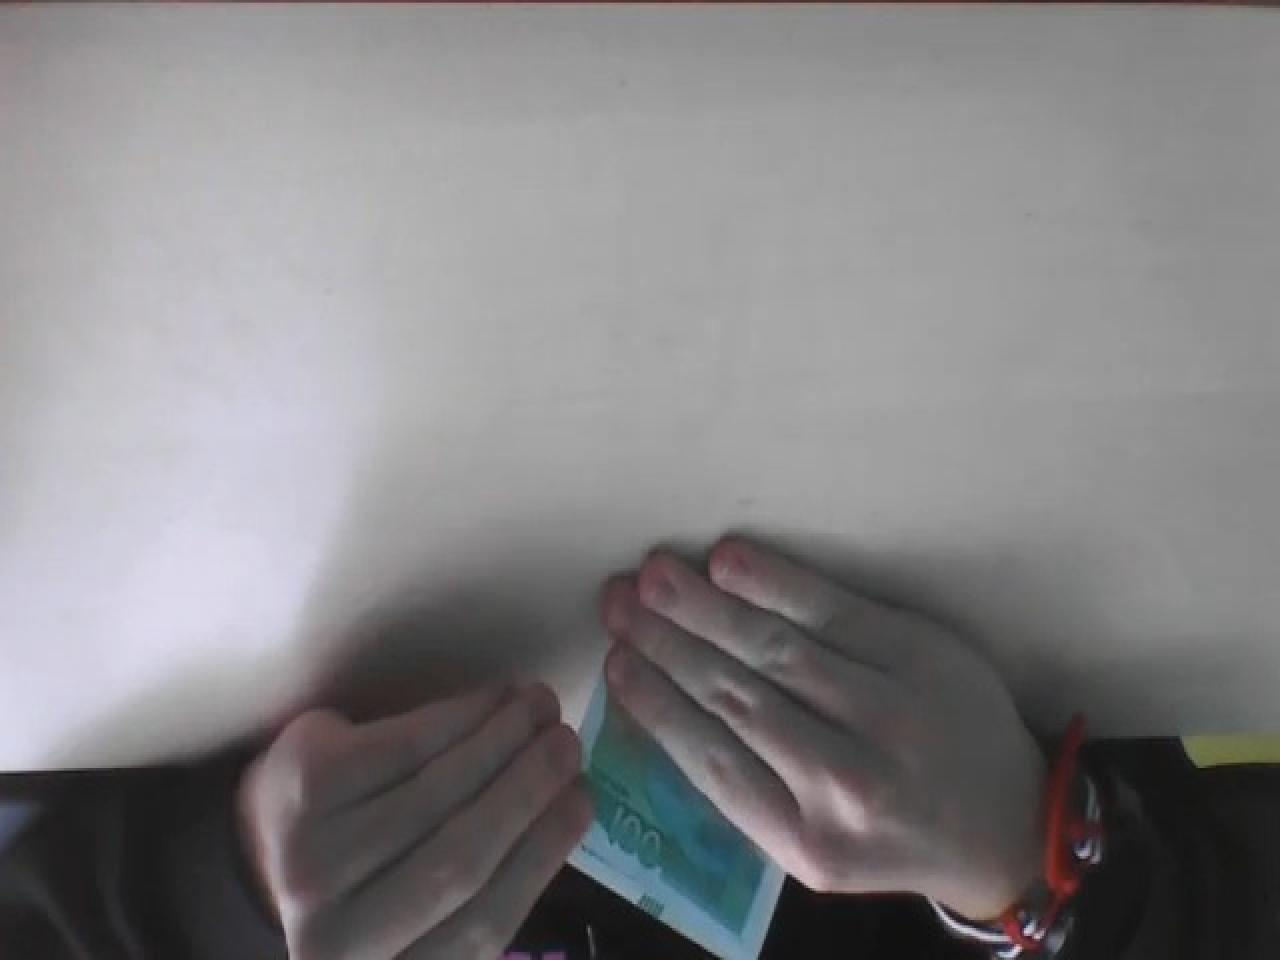100leva: (564, 699, 788, 960)
